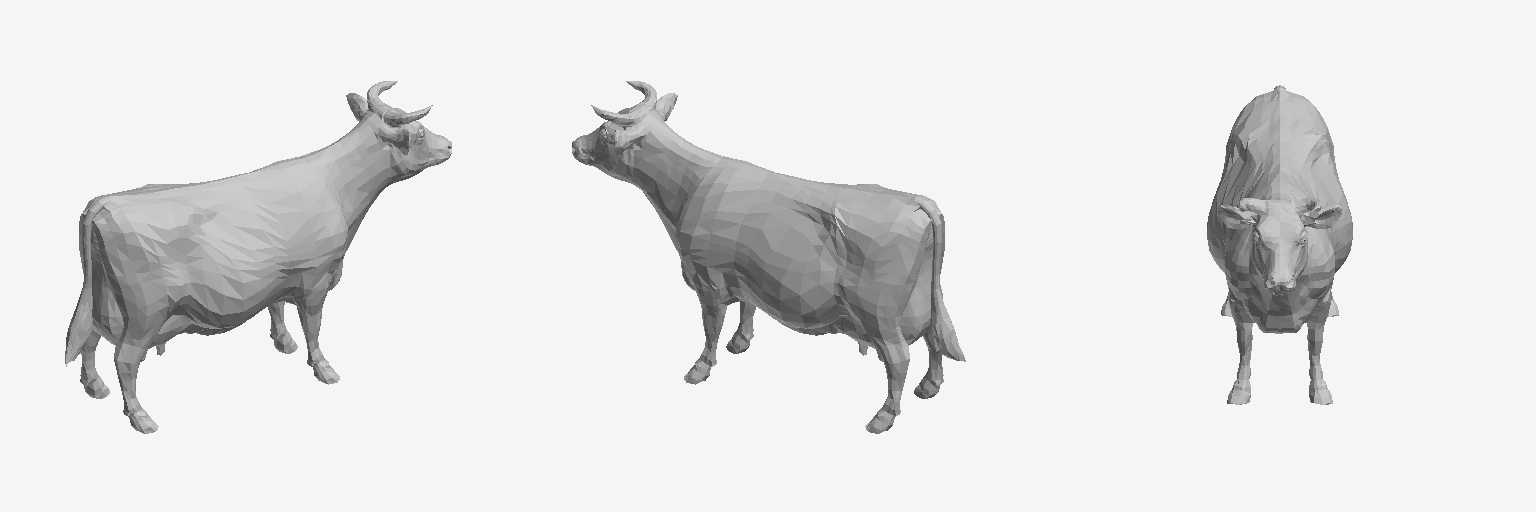
Rendered from cow2.obj.
3 renders of one model, left to right at view 1: azimuth 30°, elevation 25°; view 2: azimuth 150°, elevation 25°; view 3: azimuth 270°, elevation 25°, orthographic.
Parts seen in each view (by area): view 1: Object__0; view 2: Object__0; view 3: Object__0.
Part boxes in pixels (x1,y1,x2,y2): Object__0: (65,81,451,433); Object__0: (572,81,965,433); Object__0: (1207,85,1352,404).
Bounding box in the file's own units: 4.6 × 2.82 × 1.5.